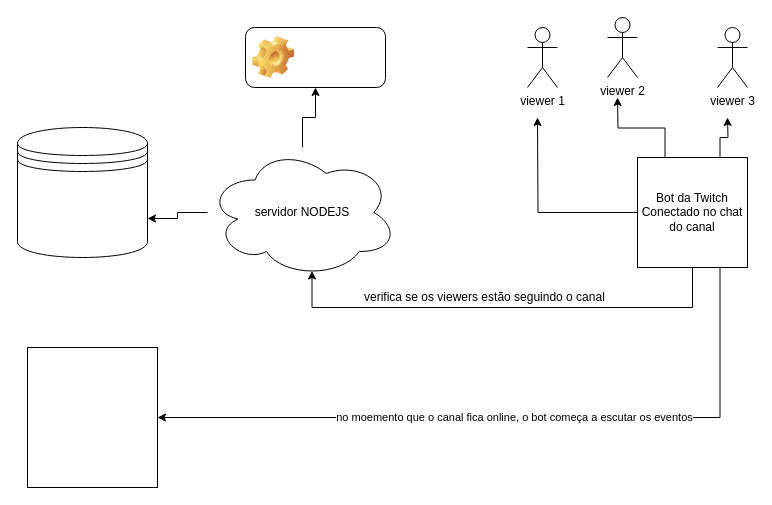
The diagram is 772 pixels wide and 505 high, and some of its shapes have lost their labels. Here are the shapes that lost their labels. From the top down, the box of each, then its label:
(244, 26, 386, 88): Api Twitch
(16, 126, 148, 258): Banco de Dados
(26, 346, 158, 488): Canal
